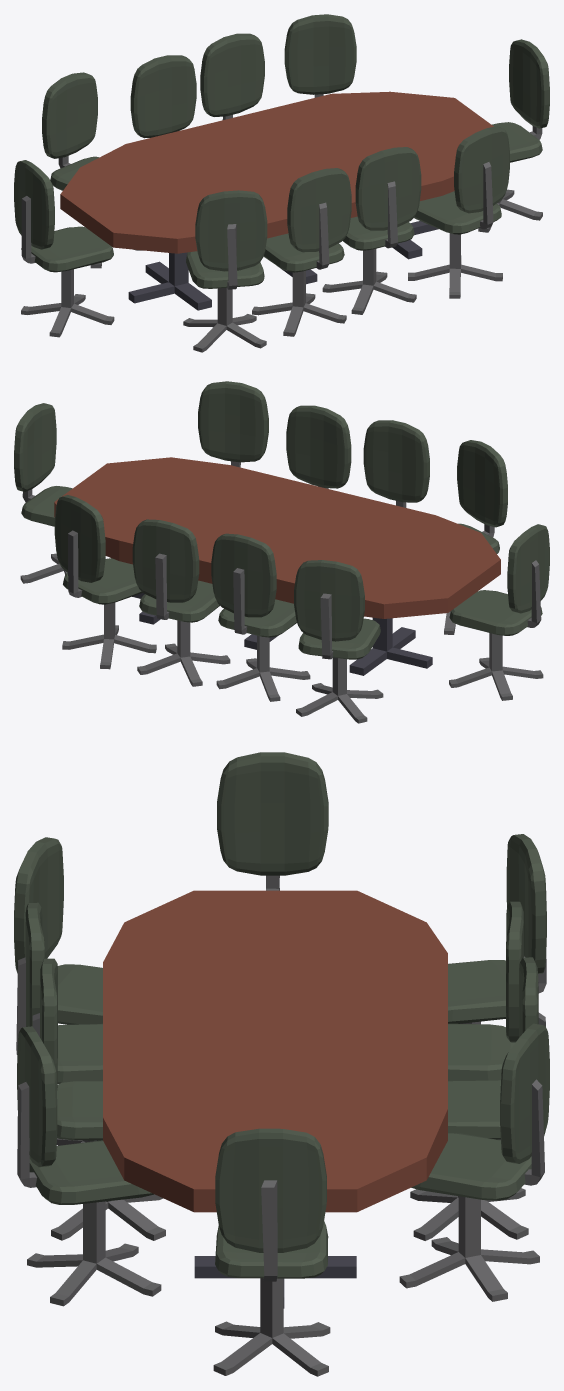
Rendered from meeting_table.glb.
The picture shows the model from 3 angles, top to bottom: view 1: azimuth 30°, elevation 25°; view 2: azimuth 150°, elevation 25°; view 3: azimuth 270°, elevation 25°; orthographic projection. The views are drawn at different scales.
Parts seen in each view (by area): view 1: MeetingTable.001; view 2: MeetingTable.001; view 3: MeetingTable.001.
Boxes of the visible parts, x1,y1,x2,y2 form: MeetingTable.001: [14, 14, 549, 352]; MeetingTable.001: [14, 381, 549, 723]; MeetingTable.001: [14, 752, 549, 1376].
Size of the model in its own units: 4.34 by 1.29 by 2.52.
Materials: 1 (1 with a texture image).
